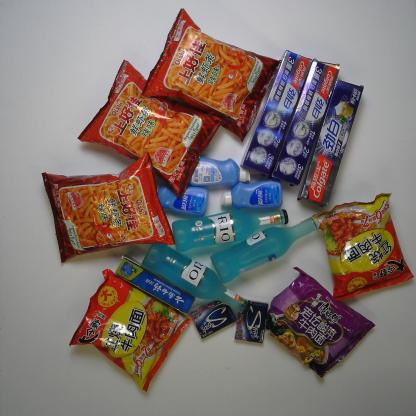Alcohol: (138, 240, 253, 314), (210, 218, 317, 284), (171, 208, 289, 254)
Gum: (189, 298, 240, 339), (234, 299, 270, 344)
Instant Noodles: (69, 269, 193, 391), (262, 266, 376, 378), (309, 193, 416, 301)
Personal Hygiene: (238, 49, 313, 178), (271, 58, 340, 186), (296, 79, 365, 206), (115, 254, 196, 316), (186, 154, 251, 188), (152, 182, 211, 217), (220, 178, 284, 210)
Puffed Food: (75, 58, 225, 198), (141, 7, 282, 143), (41, 153, 176, 264)
